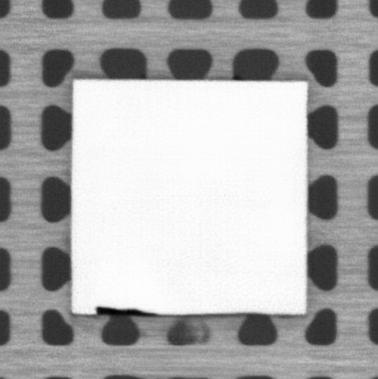DIE_BROKEN: (94, 303, 159, 319)
